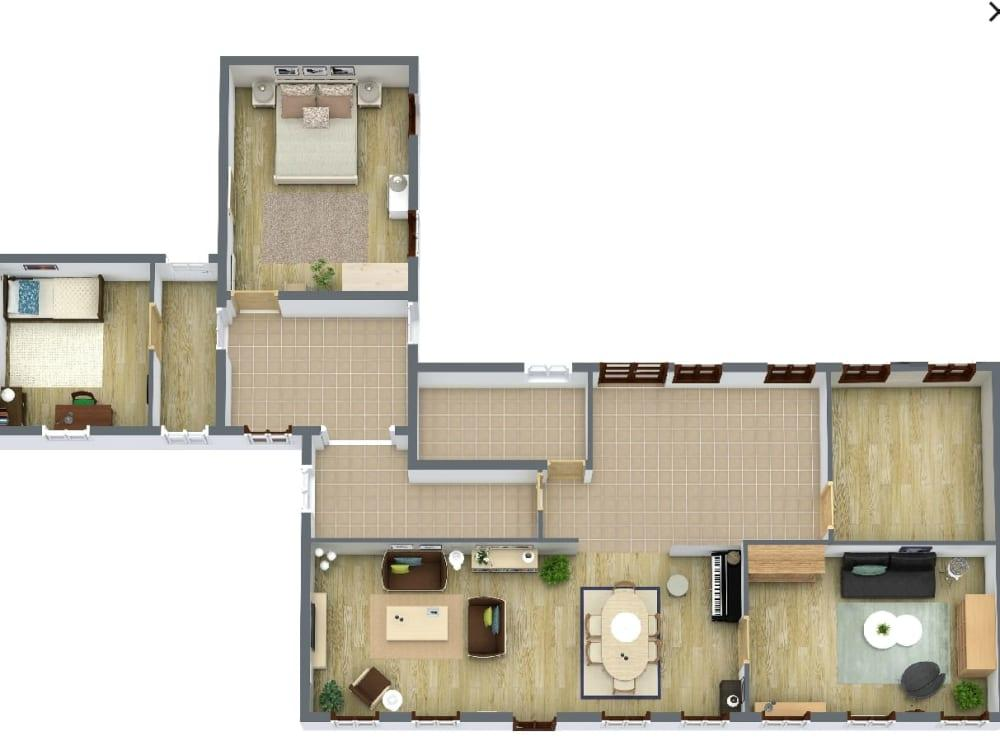room: (310, 542, 742, 720), (745, 543, 998, 720), (226, 61, 413, 294), (588, 366, 831, 539), (827, 368, 998, 542), (221, 293, 412, 431), (1, 257, 153, 430), (306, 466, 540, 539), (413, 366, 588, 462), (153, 256, 222, 429)
